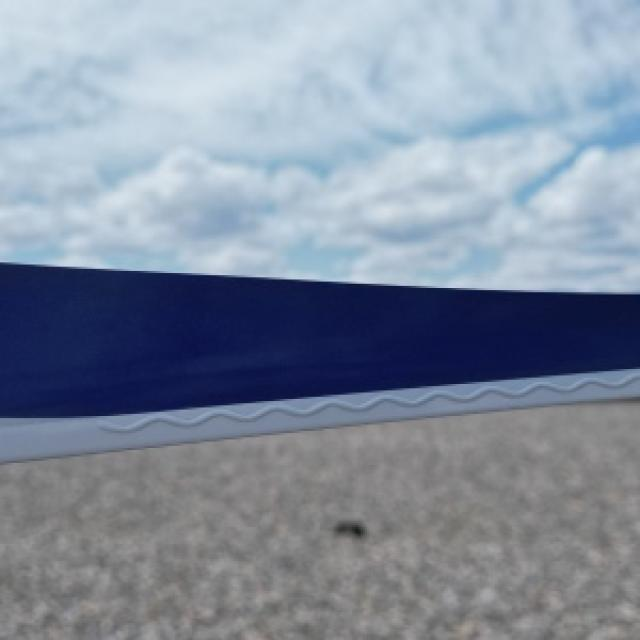healthy: (0, 260, 638, 461)
